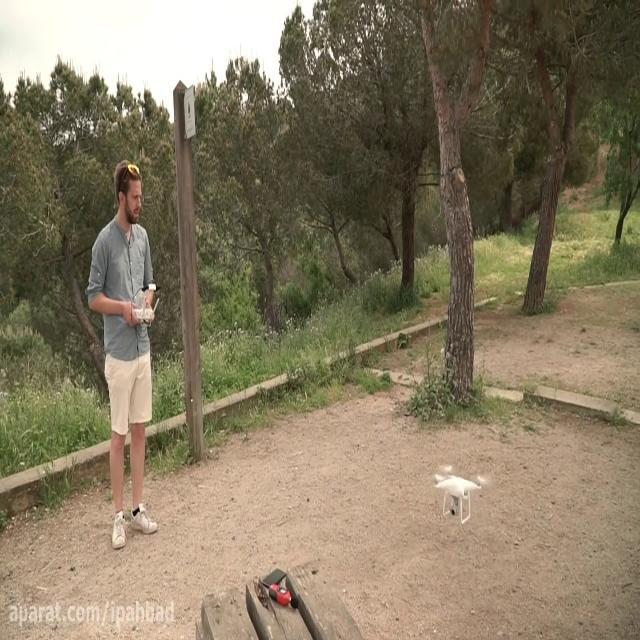drone: (431, 458, 494, 526)
